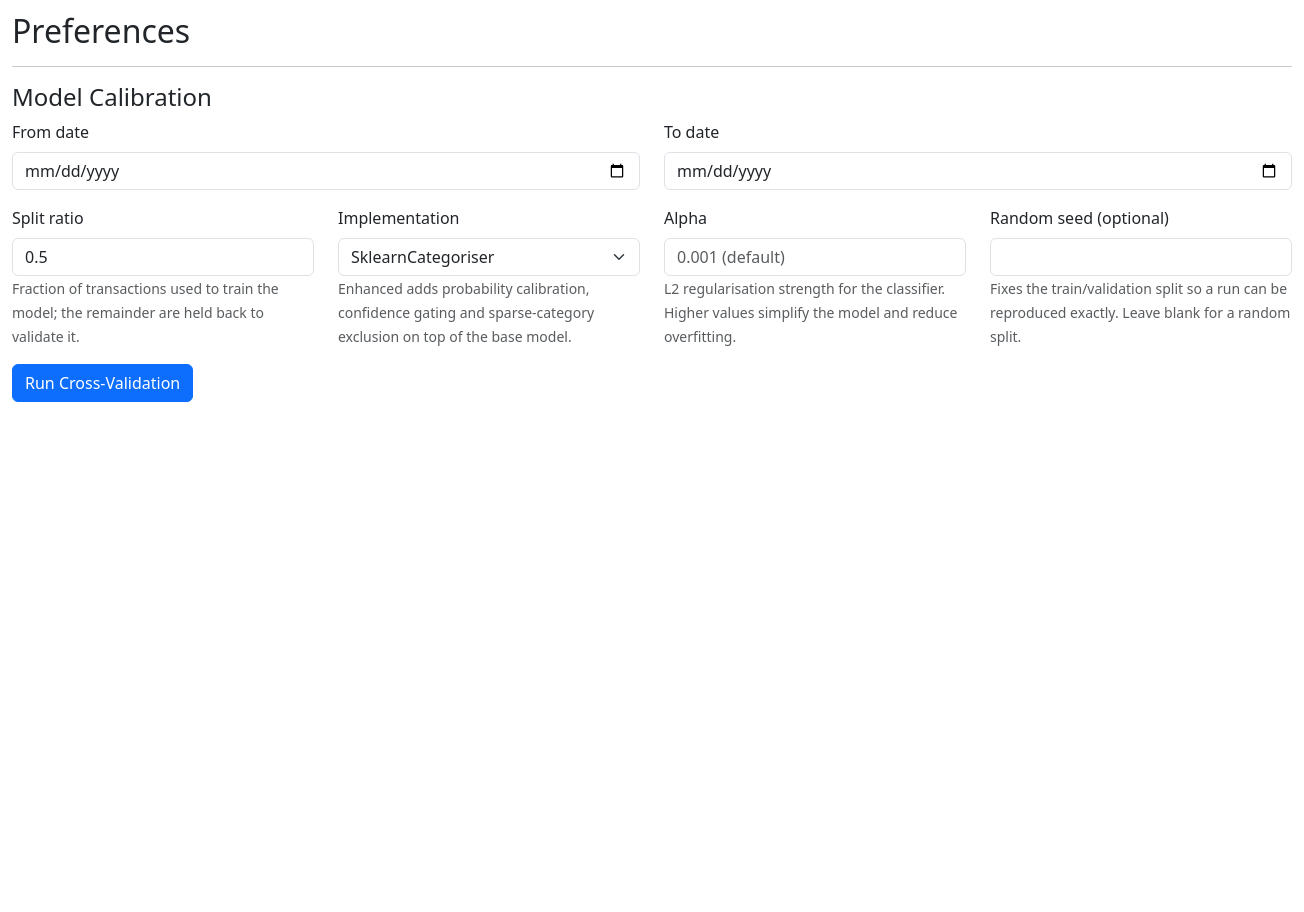
Preferences › should dismiss error alert
Type "2025-01-01" into the date field labelled "From date" at coordinates (326, 171), box [12,152,640,190]
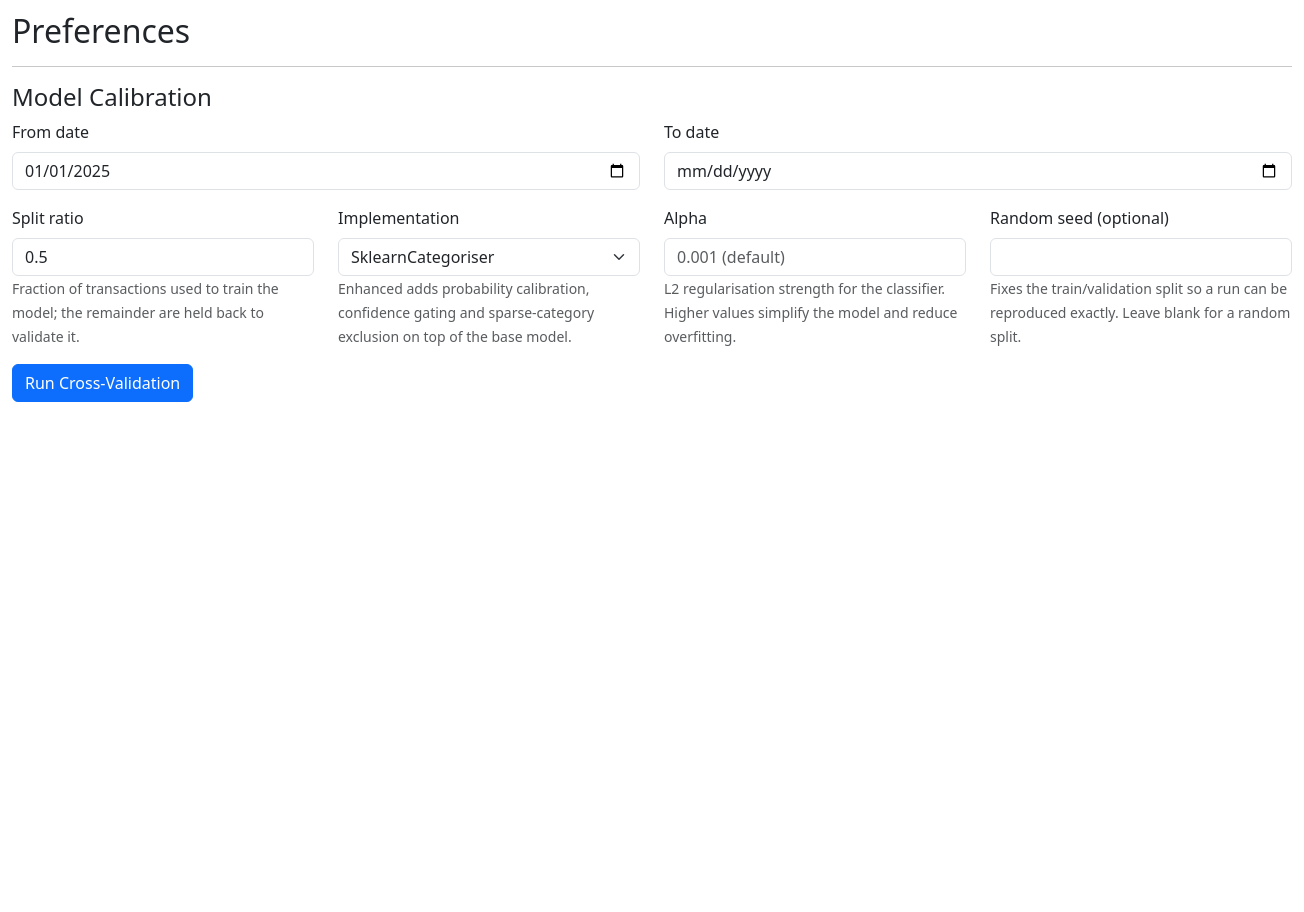
Type "2025-12-31" into the date field labelled "To date" at coordinates (978, 171), box [664,152,1292,190]
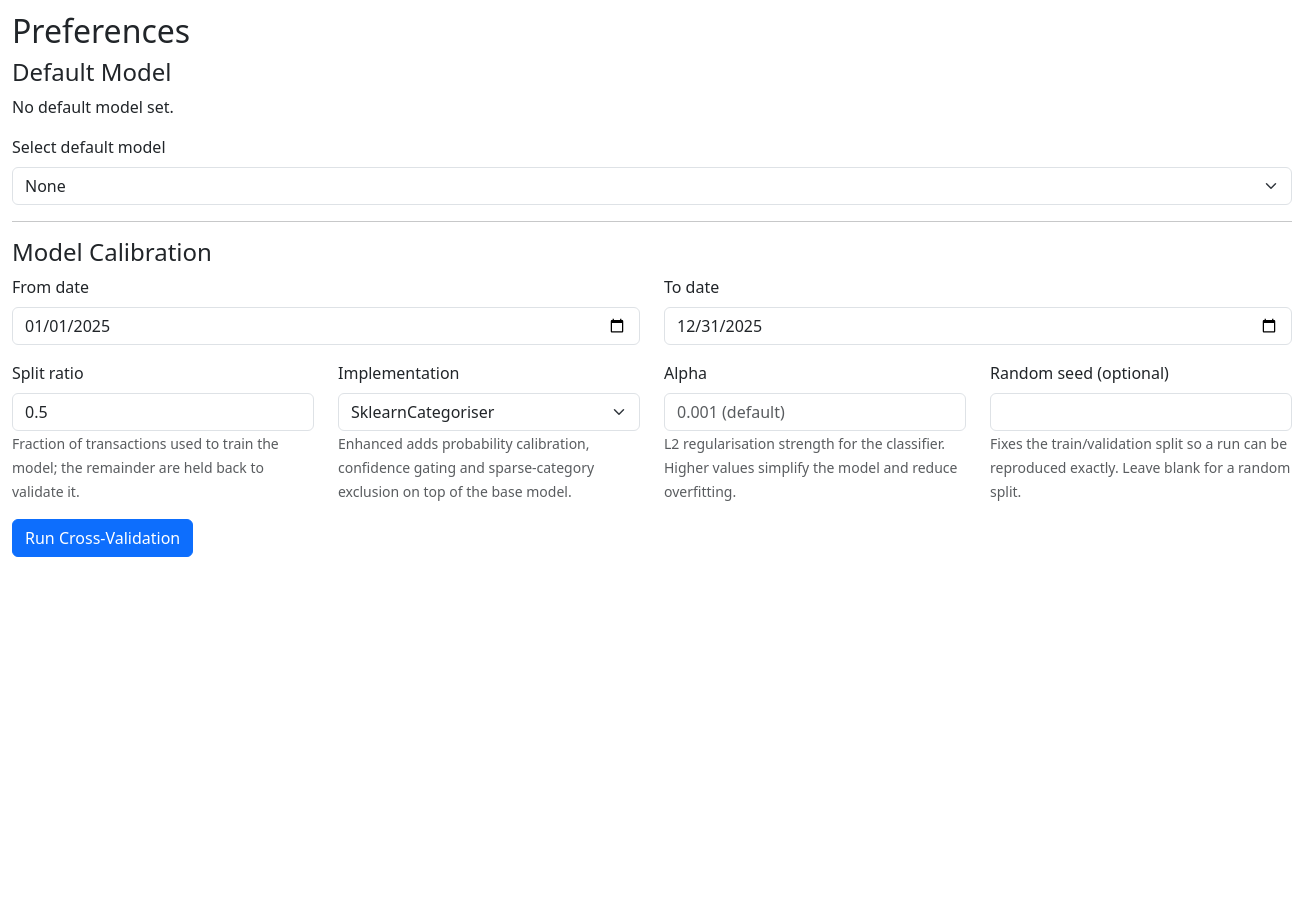
Click the button "Run Cross-Validation" at coordinates (103, 538), box [12,519,193,557]
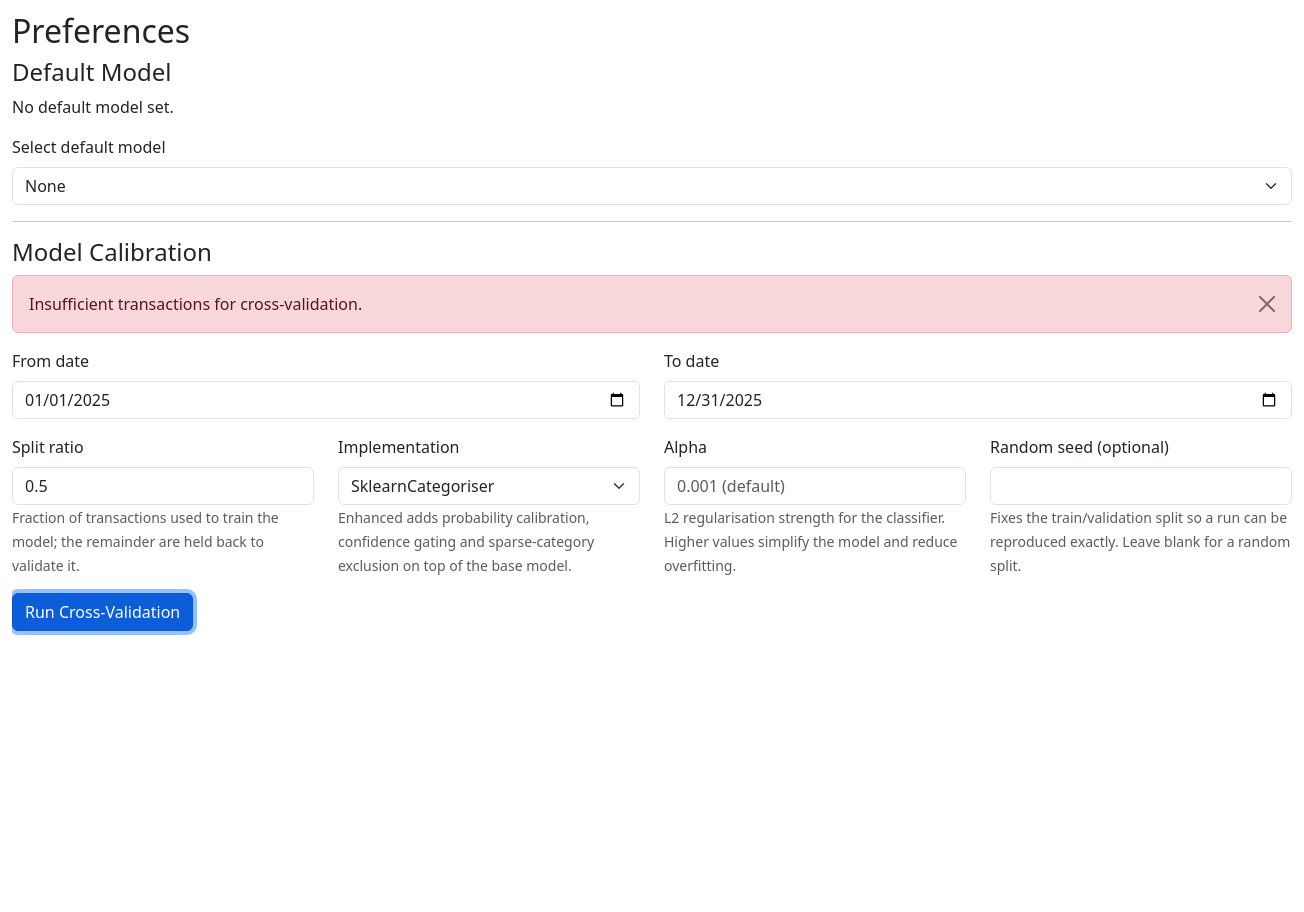
Expected: the text "Insufficient transactions for cross-validation." is shown, [12,275,1292,333]
Click the button named "Close alert" at coordinates (1267, 304), box [1243,276,1291,332]
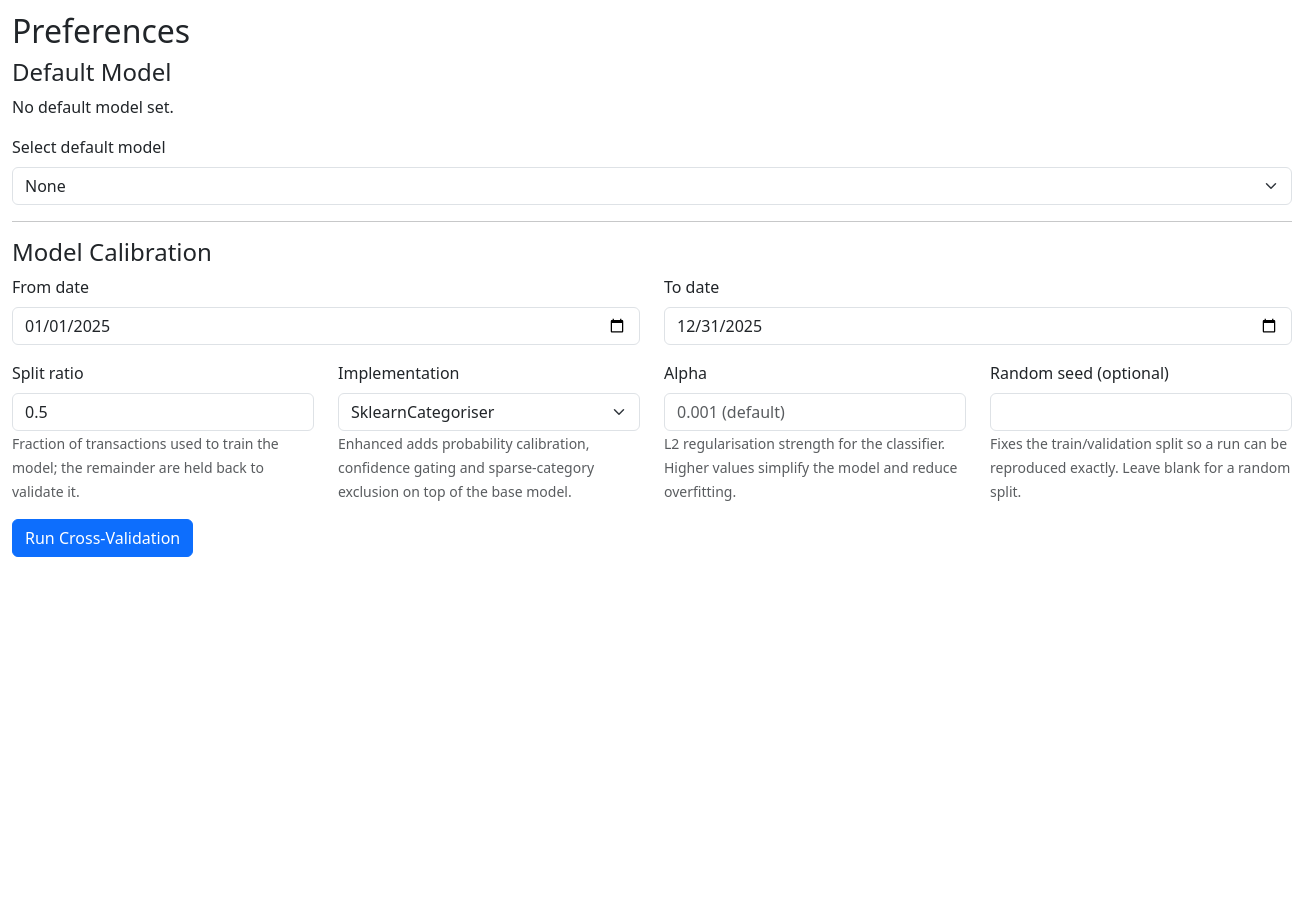
Expected: the text "Insufficient transactions for cross-validation." is gone
